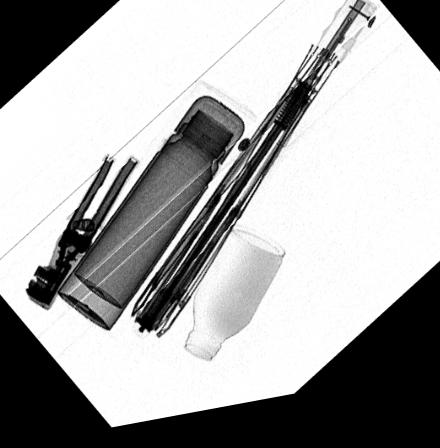Pliers: (22, 157, 138, 312)
